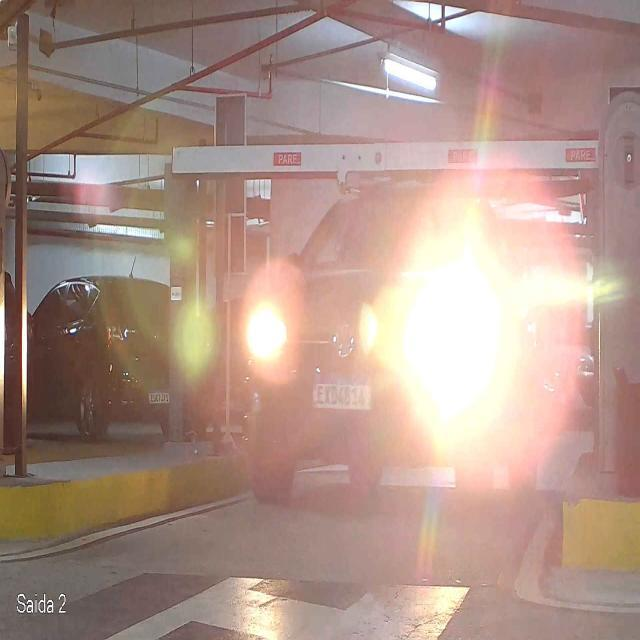mercosul_plate: (310, 374, 373, 411)
